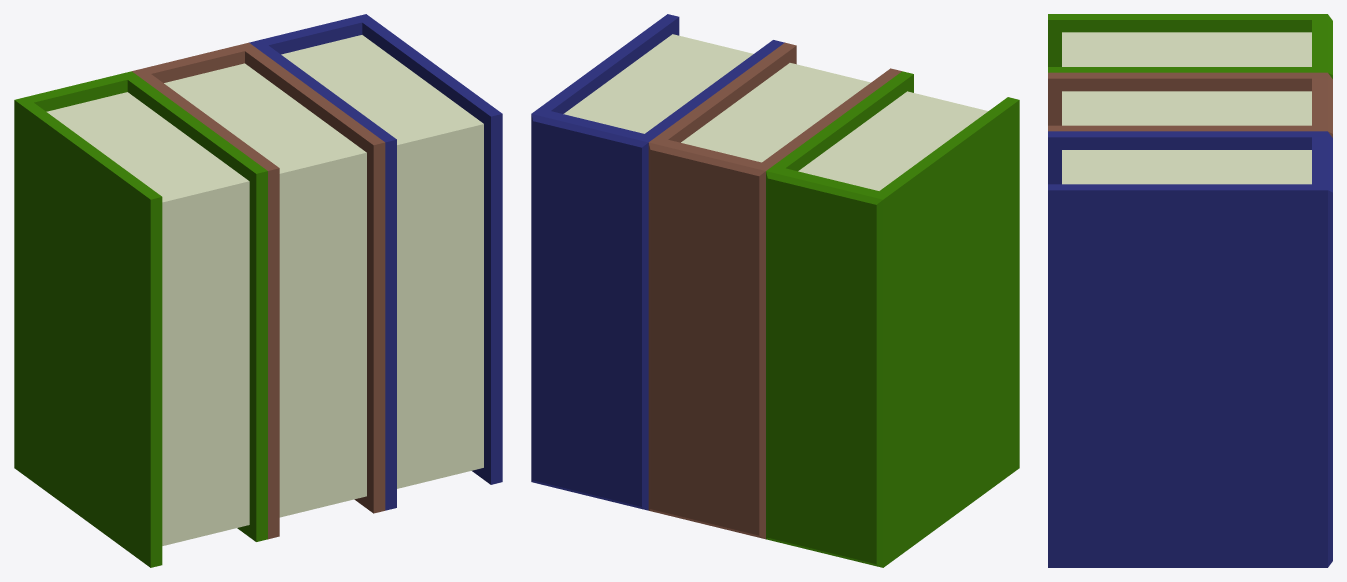
File: Books.fbx
3 renders of one model, left to right at view 1: azimuth 30°, elevation 25°; view 2: azimuth 150°, elevation 25°; view 3: azimuth 270°, elevation 25°, orthographic. The views are drawn at different scales.
Parts seen in each view (by area): view 1: Cube; view 2: Cube; view 3: Cube.
Part boxes in pixels (left/top/right/bottom): Cube: left=14, top=14, right=502, bottom=567; Cube: left=531, top=14, right=1019, bottom=567; Cube: left=1048, top=14, right=1332, bottom=567.
Bounding box in the file's own units: 30 × 30 × 20.5.
